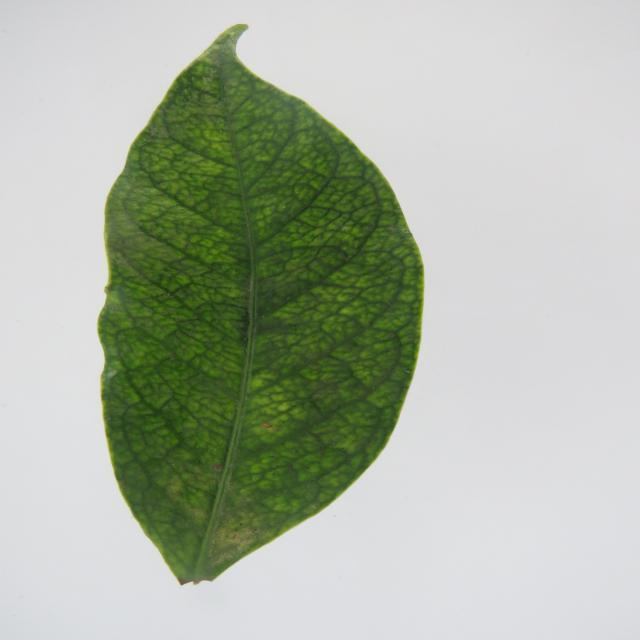DeficienciaNutricional-Hierro: (98, 25, 423, 584)
